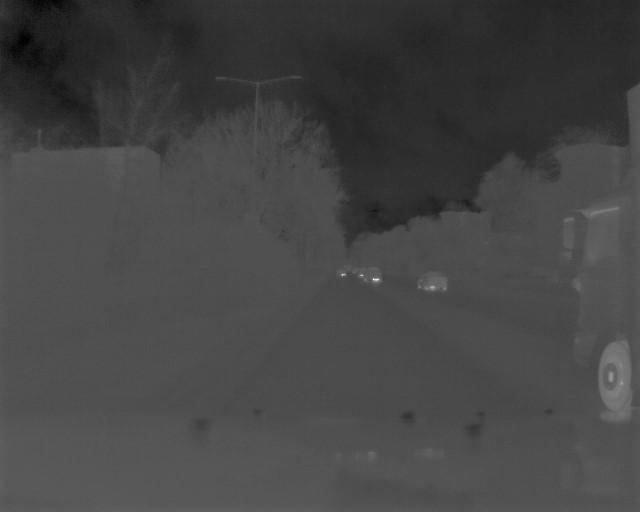car: (417, 271, 448, 295), (363, 266, 383, 285)
